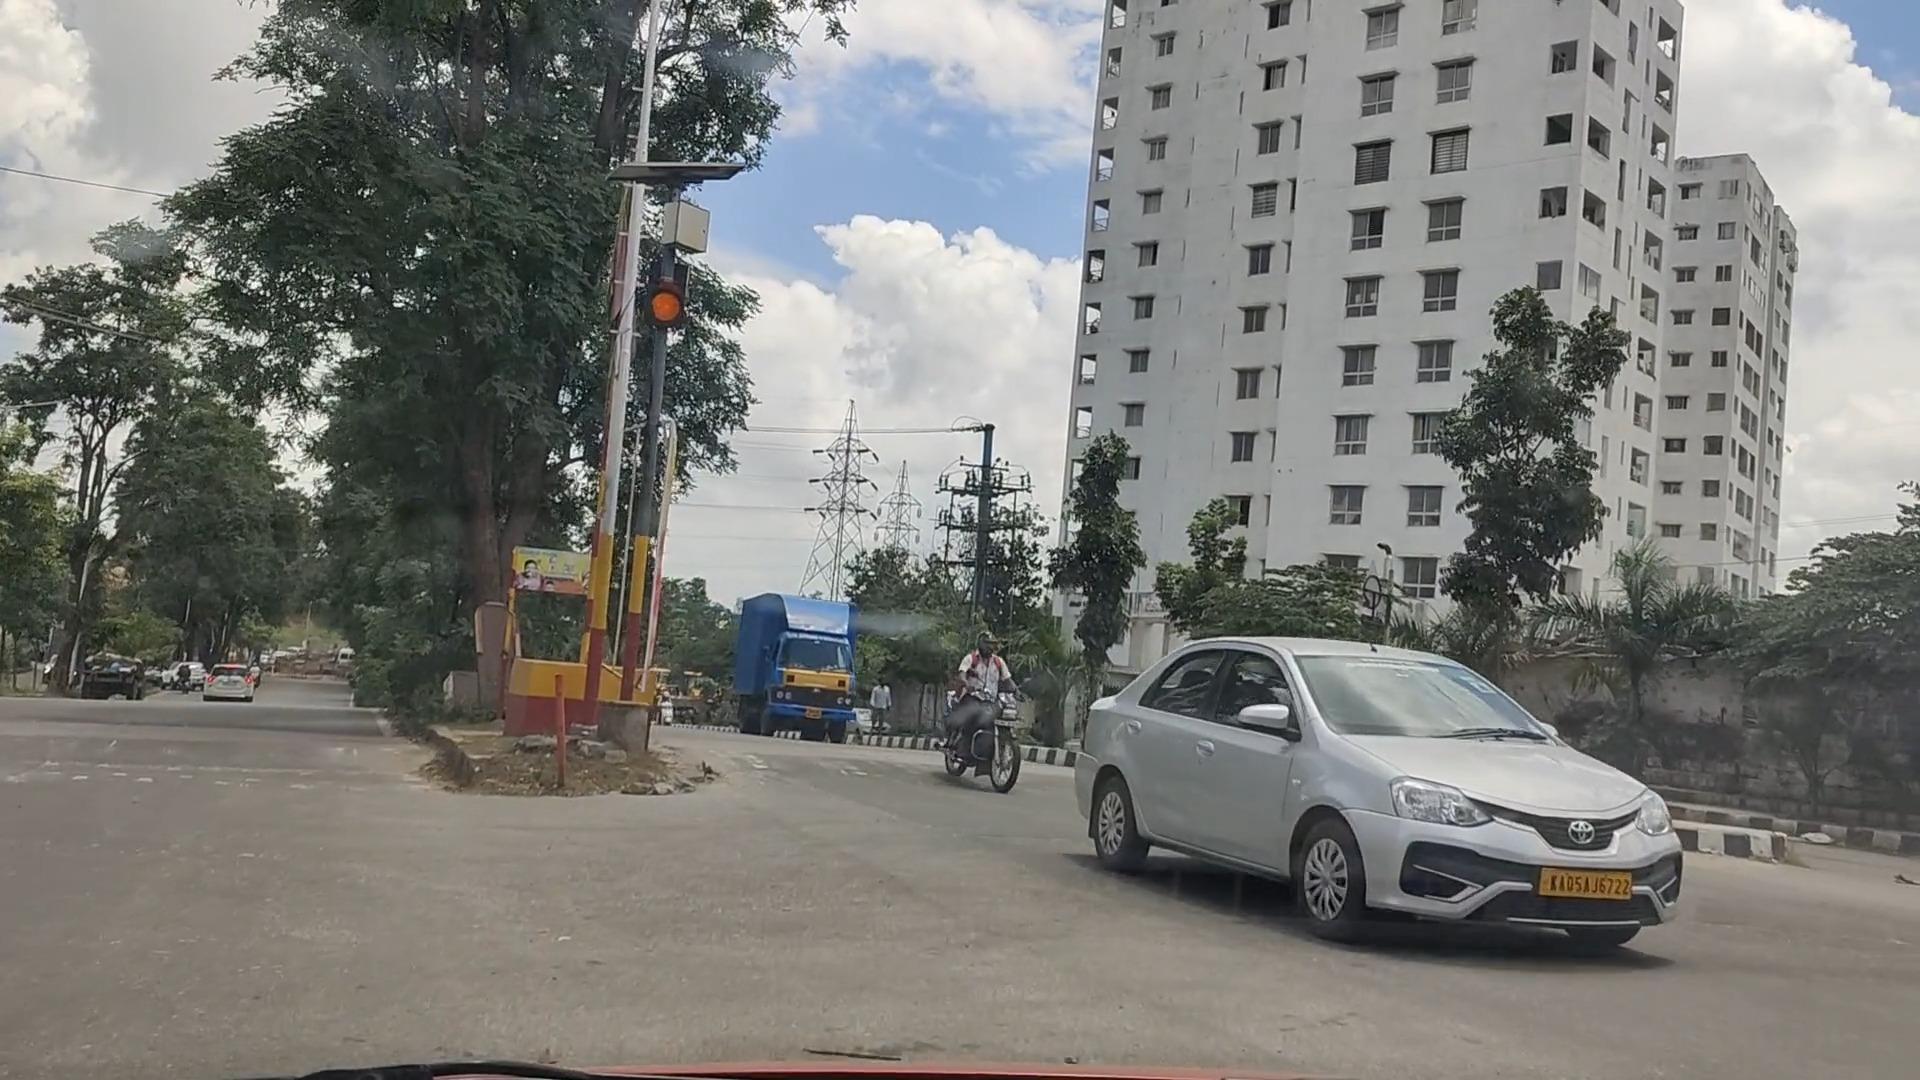LMV: (1075, 604, 1681, 969)
